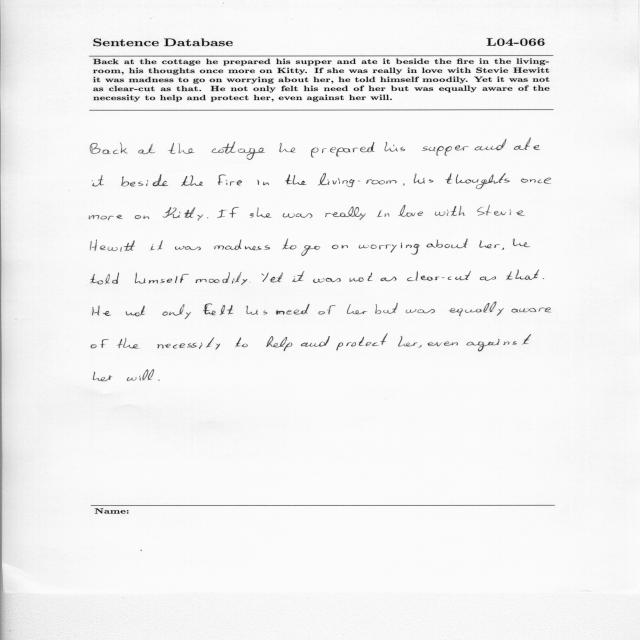word: (466, 334, 531, 352), (318, 173, 397, 187), (445, 173, 510, 189), (212, 142, 265, 160), (311, 142, 374, 157), (336, 334, 388, 351), (449, 302, 504, 316), (157, 338, 220, 350), (359, 243, 420, 255), (196, 272, 248, 285), (407, 271, 471, 281), (214, 240, 270, 251), (121, 174, 168, 187), (135, 273, 189, 284), (90, 239, 135, 252), (325, 206, 366, 220), (163, 207, 203, 221), (477, 205, 525, 216), (422, 145, 469, 156), (162, 304, 191, 319), (90, 143, 128, 154), (266, 336, 292, 351), (276, 304, 310, 315), (427, 239, 468, 248), (203, 304, 233, 316), (475, 139, 507, 150), (91, 273, 119, 285), (506, 270, 539, 280), (301, 336, 330, 347), (514, 138, 540, 150), (398, 205, 423, 217), (435, 206, 465, 216), (168, 143, 195, 154), (127, 370, 154, 381), (218, 175, 242, 186), (375, 303, 398, 314), (181, 175, 203, 186), (285, 174, 307, 185), (217, 207, 239, 218), (250, 207, 272, 218), (117, 338, 140, 348), (126, 306, 146, 317), (384, 142, 405, 152), (262, 273, 283, 283), (247, 305, 268, 315), (301, 245, 320, 256), (93, 305, 112, 316), (350, 273, 373, 282), (414, 174, 434, 184), (347, 304, 367, 314), (512, 308, 552, 313), (398, 336, 418, 346), (138, 144, 156, 154), (521, 178, 551, 184), (94, 372, 113, 381), (89, 215, 123, 220), (319, 305, 336, 315), (479, 240, 500, 248), (91, 340, 109, 349), (280, 143, 296, 153), (283, 239, 297, 250), (428, 342, 458, 347), (283, 213, 312, 218), (512, 239, 530, 247), (313, 278, 341, 283), (92, 175, 104, 186), (292, 271, 304, 282), (235, 338, 248, 348), (151, 241, 163, 251), (406, 309, 435, 313), (175, 246, 201, 250), (377, 210, 390, 217), (381, 277, 397, 282), (480, 276, 496, 281), (332, 245, 348, 249), (257, 180, 269, 185), (135, 215, 149, 219), (418, 345, 422, 348), (403, 183, 405, 186), (502, 247, 504, 250), (158, 380, 160, 381), (207, 218, 208, 219), (250, 282, 251, 282), (543, 279, 544, 279)
